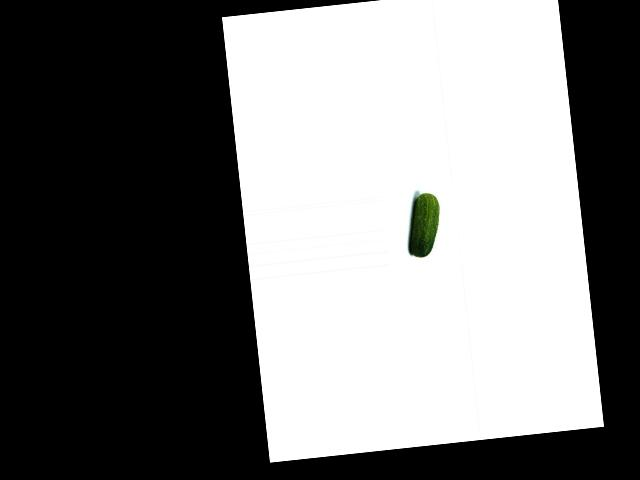cucumber: (404, 192, 444, 258)
